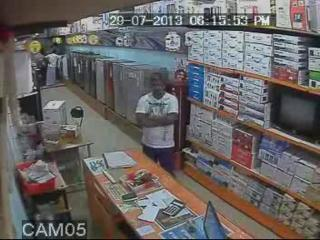Normal: (134, 72, 178, 176), (269, 88, 320, 147)
